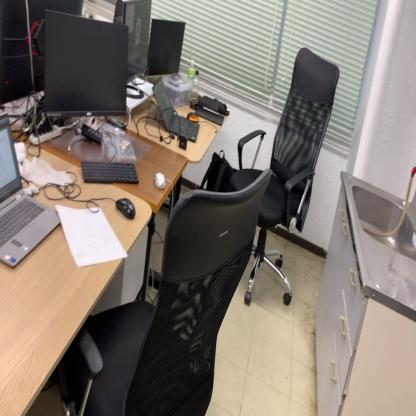chair: (61, 164, 274, 416), (217, 44, 341, 303)
